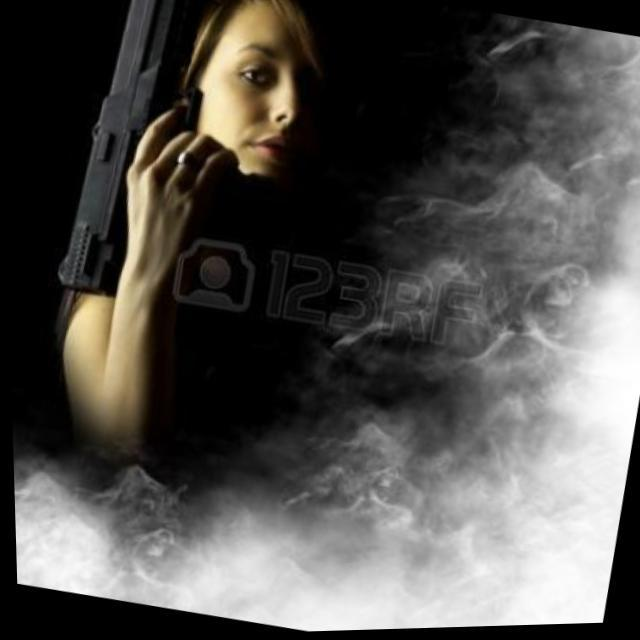weapon: (41, 0, 293, 325)
